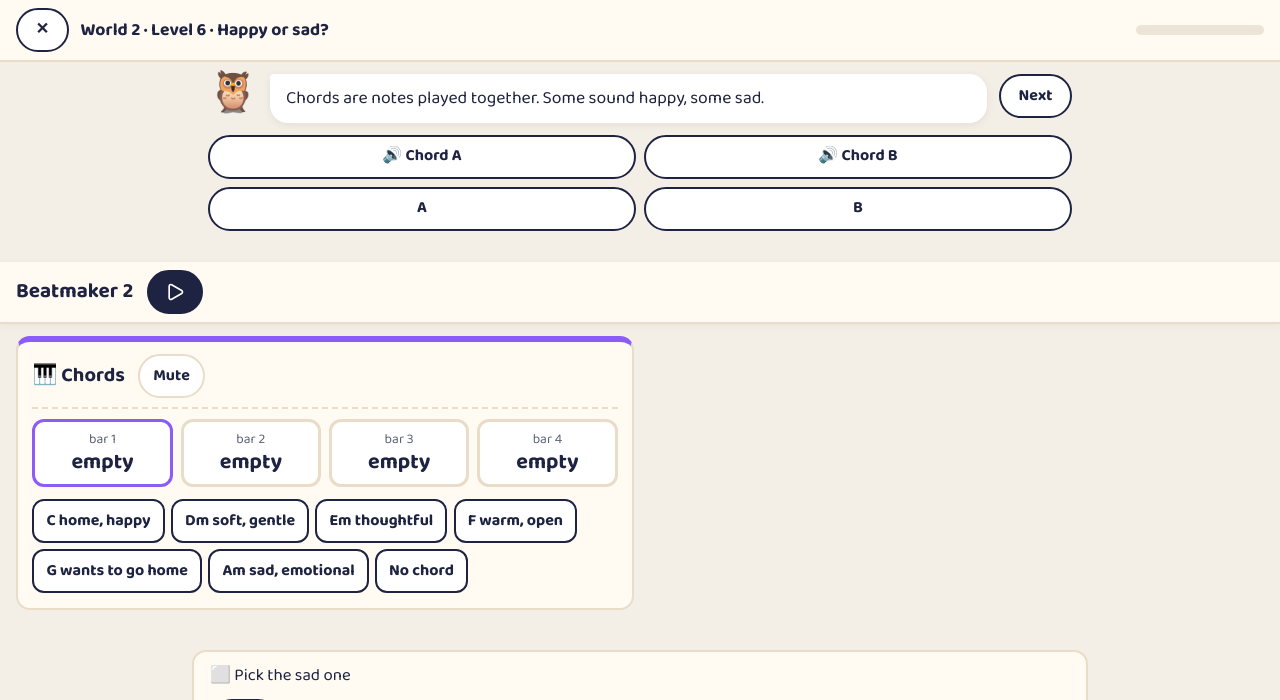
Lesson › level 6 quiz: wrong answer shows the message, right answer meets the goal
The width and height of the screenshot is (1280, 700).
Click the button "A". click: (422, 209)
box: x1=208 y1=187 x2=636 y2=231
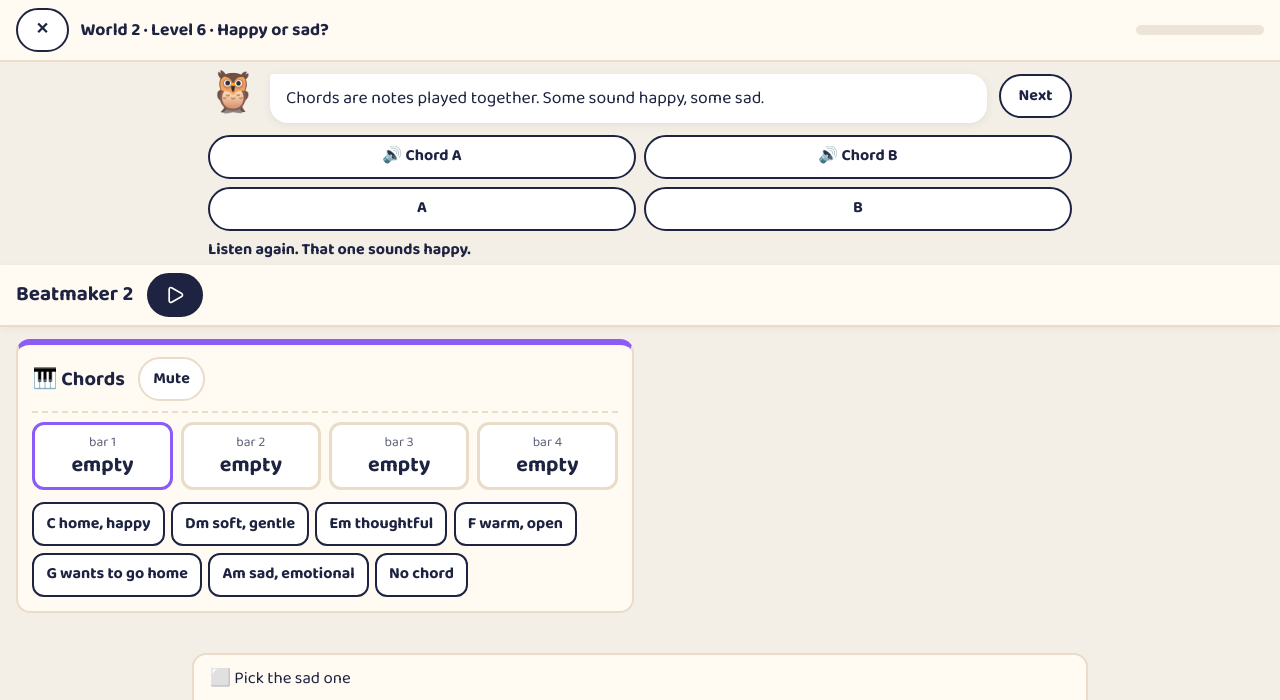
expect the list item "Pick the sad one" shows "⬜": met, box x1=210 y1=665 x2=231 y2=692
expect the text "Listen again. That one sounds happy." is shown: met, box x1=208 y1=237 x2=471 y2=262
Click the button "B". click: (858, 209)
box: x1=644 y1=187 x2=1072 y2=231
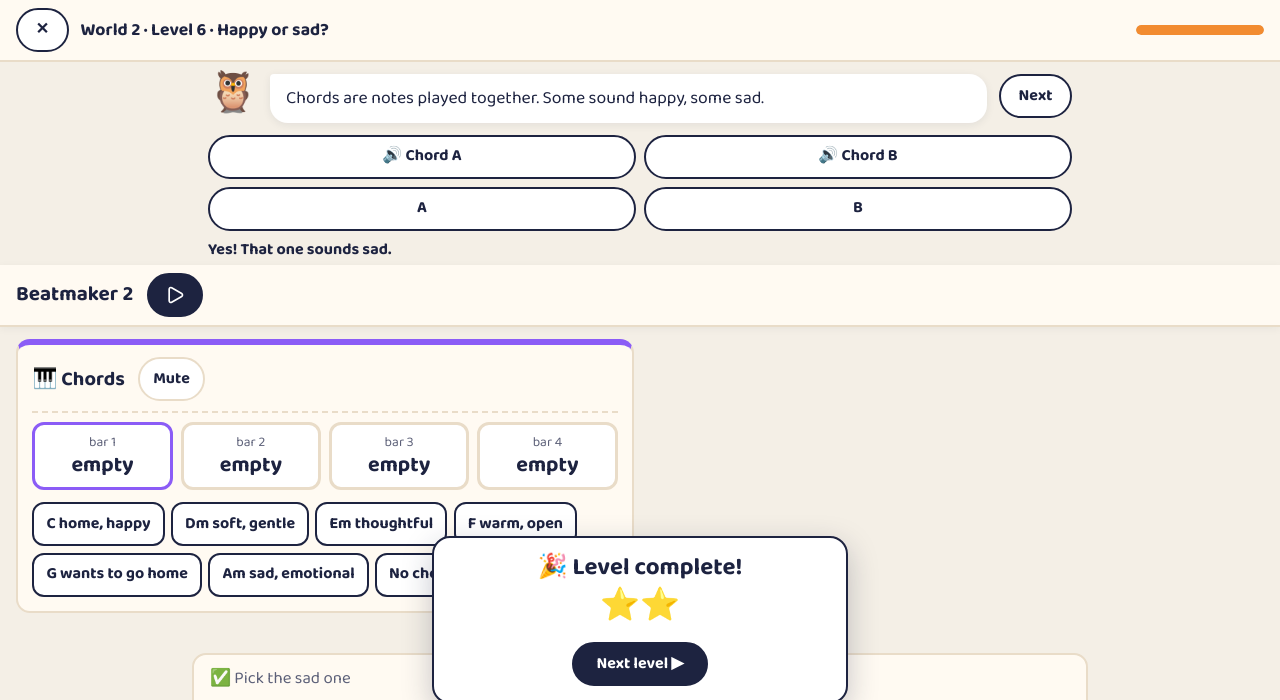
expect the list item "Pick the sad one" shows "✅": met, box x1=210 y1=665 x2=231 y2=692
